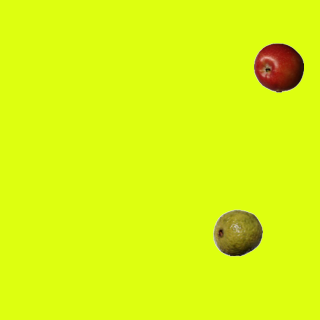Apple Braeburn: (253, 42, 303, 92)
Guava: (212, 207, 262, 257)
